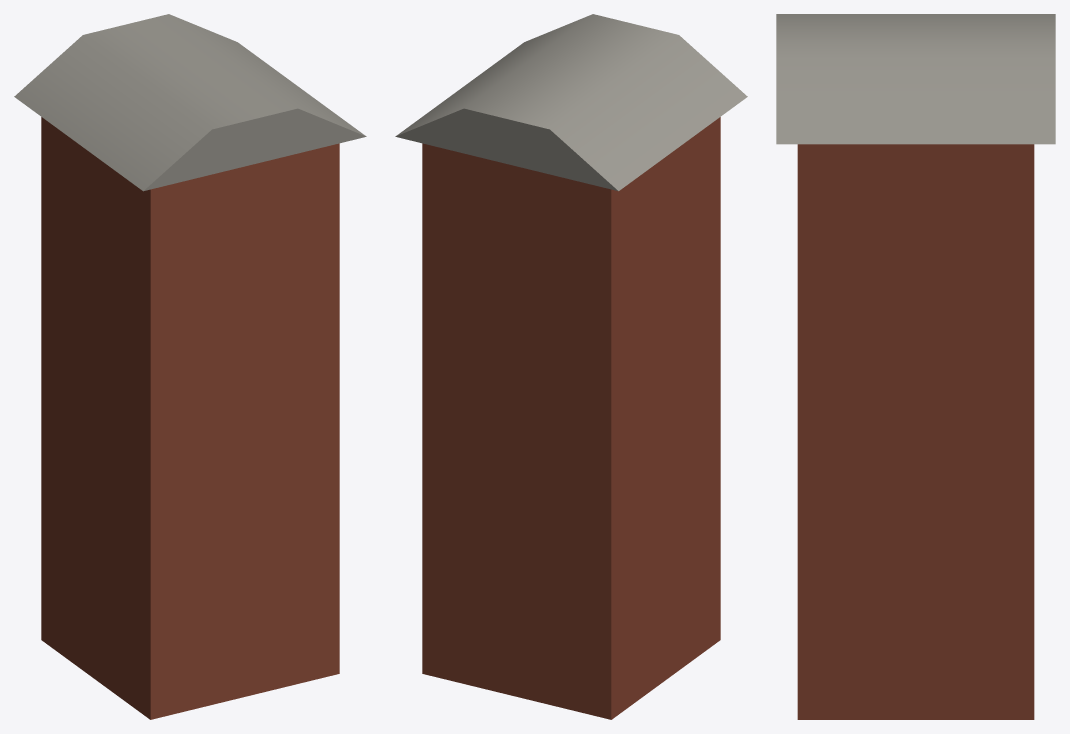
File: boundary.post.pier_1200.glb
3 renders of one model, left to right at view 1: azimuth 30°, elevation 25°; view 2: azimuth 150°, elevation 25°; view 3: azimuth 270°, elevation 25°, orthographic. The views are drawn at different scales.
Visible parts, largest first — view 1: main__brick, main__concrete; view 2: main__brick, main__concrete; view 3: main__brick, main__concrete.
Boxes of the visible parts, x1,y1,x2,y2 form: main__brick: (41, 117, 339, 719); main__concrete: (14, 14, 366, 191); main__brick: (422, 117, 720, 719); main__concrete: (395, 14, 747, 191); main__brick: (797, 144, 1034, 719); main__concrete: (776, 14, 1055, 144).
Bounding box in the file's own units: 0.52 × 1.3 × 0.52.
